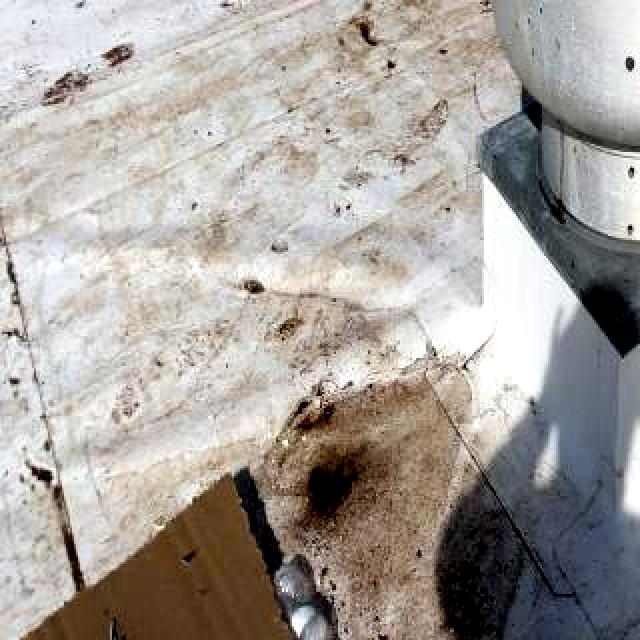GRAVITY-VENT: (446, 0, 640, 252)
